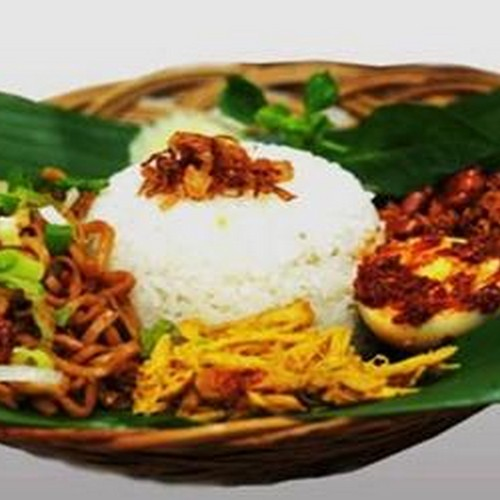nasi jinggo: (27, 101, 467, 391)
